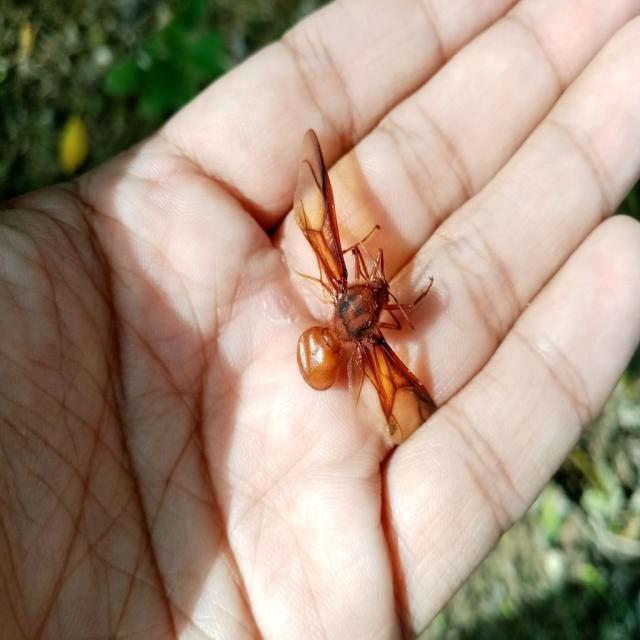Dead-Male-Alate: (289, 129, 447, 495)
